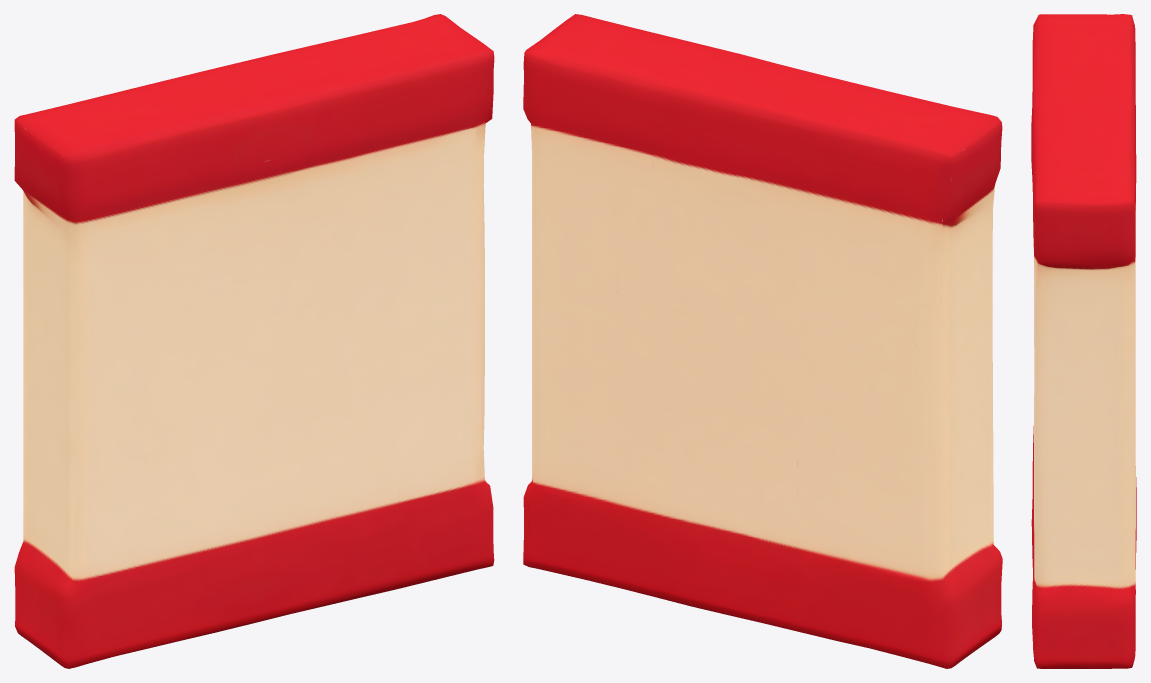
Rendered from 01-wall.fbx.
The picture shows the model from 3 angles, left to right: view 1: azimuth 30°, elevation 25°; view 2: azimuth 150°, elevation 25°; view 3: azimuth 270°, elevation 25°; orthographic projection. The views are drawn at different scales.
Visible parts, largest first — view 1: model; view 2: model; view 3: model.
Part boxes in pixels (x1=…): model: x1=14, y1=14, x2=494, y2=668; model: x1=523, y1=14, x2=1002, y2=668; model: x1=1031, y1=14, x2=1136, y2=668.
Size of the model in its own units: 166 by 190 by 38.77.
